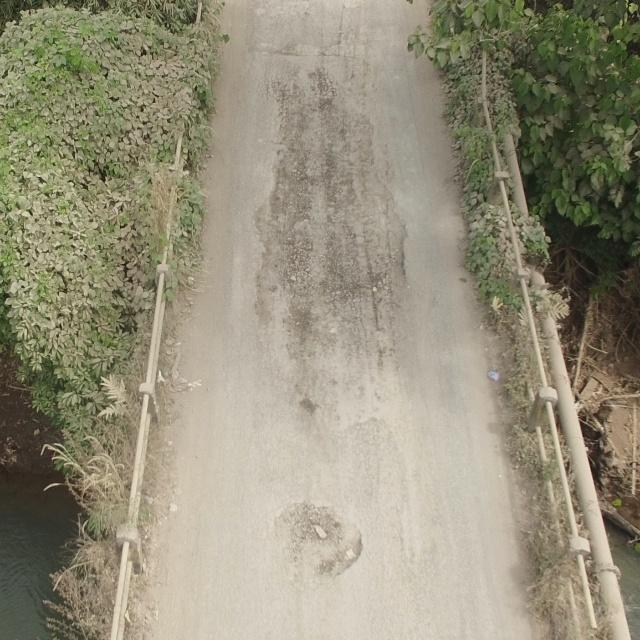BACHE: (255, 97, 409, 426), (274, 506, 362, 581)
